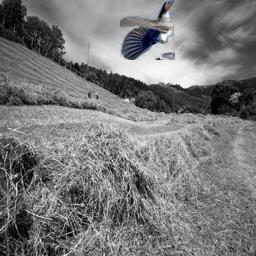Swallow: (120, 0, 175, 60)
